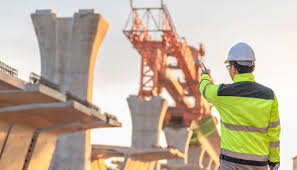Casco de seguridad: (223, 41, 261, 70)
